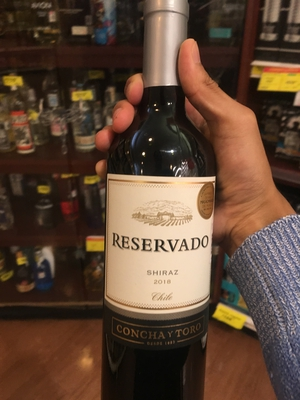reservado shiraz: (99, 1, 212, 400)
